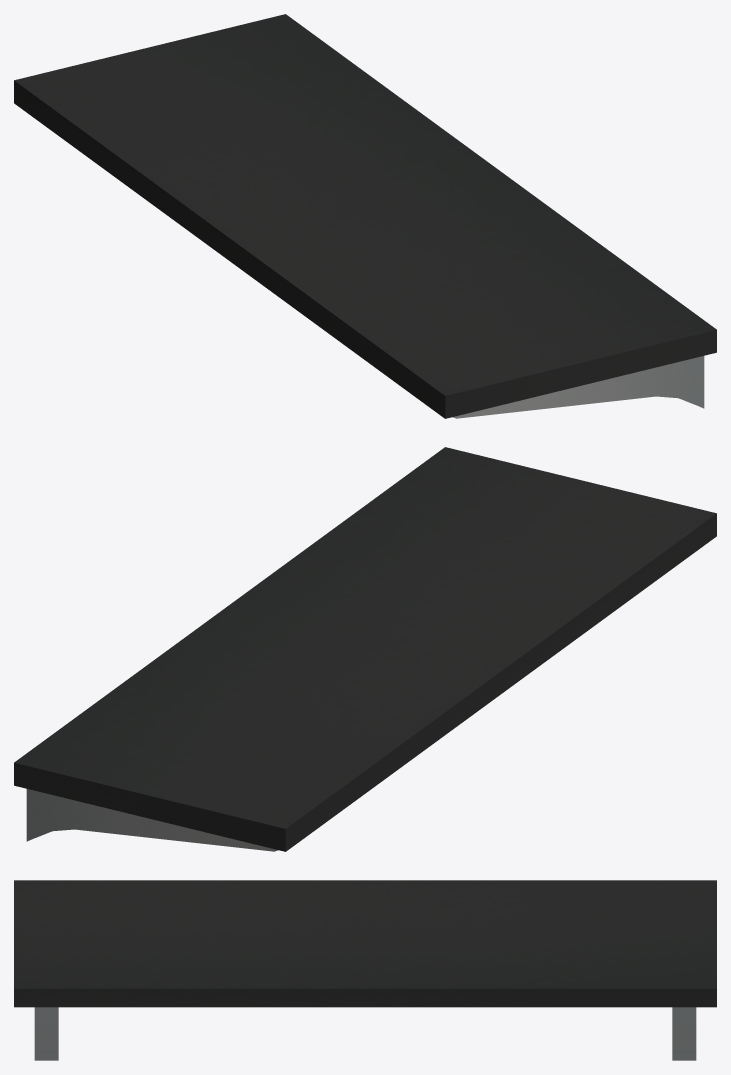
Rendered from Holder.fbx.
The picture shows the model from 3 angles, top to bottom: view 1: azimuth 30°, elevation 25°; view 2: azimuth 150°, elevation 25°; view 3: azimuth 270°, elevation 25°; orthographic projection. The views are drawn at different scales.
Visible parts, largest first — view 1: Holder; view 2: Holder; view 3: Holder.
Boxes of the visible parts, x1,y1,x2,y2 form: Holder: (14, 14, 716, 418); Holder: (14, 447, 716, 851); Holder: (14, 880, 716, 1060).
Size of the model in its own units: 2 by 0.6212 by 5.5.
Materials: 1 (1 with a texture image).
